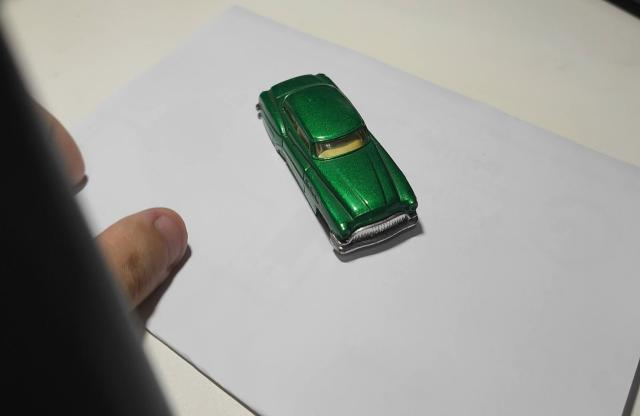06_MASERATI: (256, 74, 425, 264)
